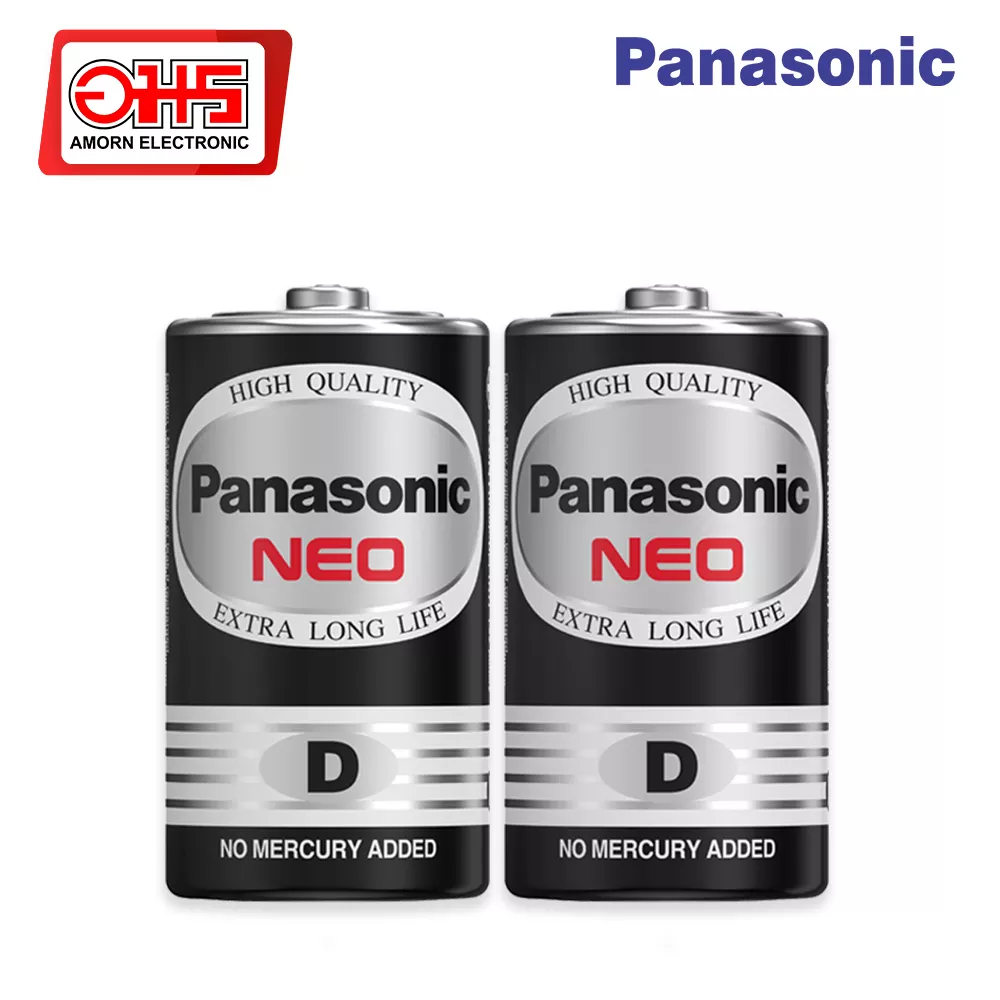Battery: (502, 281, 832, 906), (163, 280, 493, 905)
